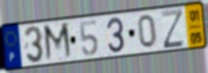0: (137, 13, 159, 50)
3: (22, 24, 45, 65), (105, 16, 126, 55)
5: (78, 18, 99, 57)
M: (42, 21, 75, 64)
Z: (159, 7, 186, 51)
